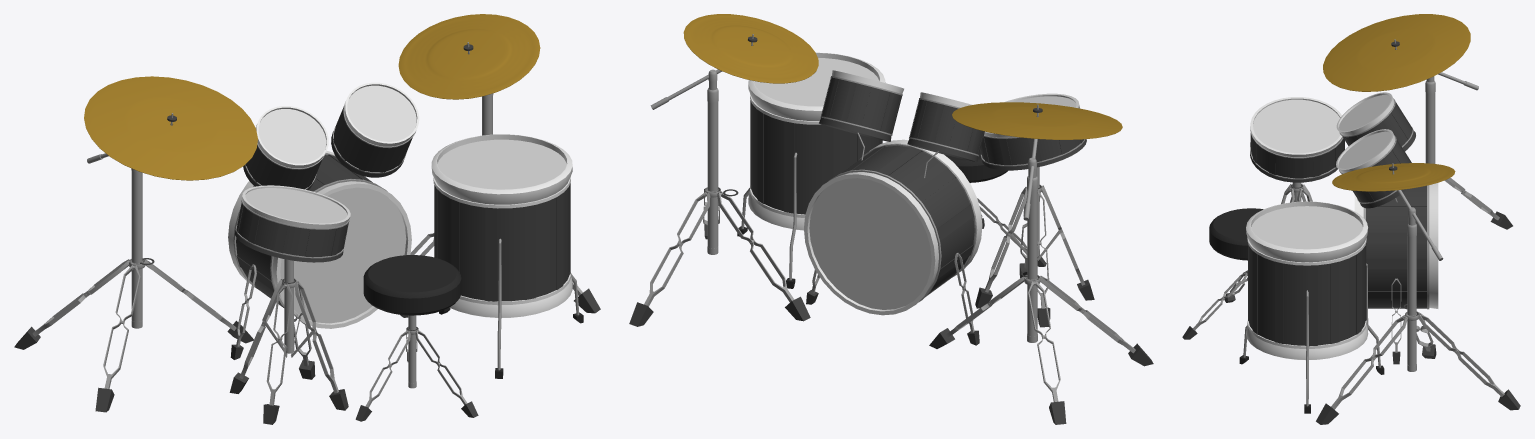
File: drum-kit.glb
3 renders of one model, left to right at view 1: azimuth 30°, elevation 25°; view 2: azimuth 150°, elevation 25°; view 3: azimuth 270°, elevation 25°, orthographic. The views are drawn at different scales.
Parts seen in each view (by area): view 1: BassDrum_27, Tom1Drum_40, Tom2Drum_36, Tom3Drum_37, Snare_26, 3outer, 1outer, 4outer, 2outer; view 2: BassDrum_27, Tom1Drum_40, 3outer, 4outer; view 3: BassDrum_27, Tom1Drum_40, Snare_26, 3outer, Tom2Drum_36, Tom3Drum_37, 1outer, 2outer, 4outer.
Part boxes in pixels (x1,y1,x2,y2): BassDrum_27: (14, 14, 600, 424); Tom1Drum_40: (431, 134, 572, 317); Tom2Drum_36: (347, 85, 416, 141); Tom3Drum_37: (258, 109, 326, 163); Snare_26: (245, 188, 347, 223); 3outer: (228, 151, 411, 328); 1outer: (242, 185, 350, 228); 4outer: (344, 82, 419, 146); 2outer: (256, 106, 328, 168); BassDrum_27: (629, 14, 1153, 424); Tom1Drum_40: (748, 52, 885, 230); 3outer: (804, 139, 982, 315); 4outer: (832, 70, 903, 93); BassDrum_27: (1182, 14, 1520, 424); Tom1Drum_40: (1246, 201, 1368, 360); Snare_26: (1253, 99, 1340, 153); 3outer: (1354, 183, 1438, 308); Tom2Drum_36: (1338, 131, 1391, 168); Tom3Drum_37: (1339, 95, 1390, 130); 1outer: (1250, 97, 1342, 157); 2outer: (1336, 92, 1394, 135); 4outer: (1336, 129, 1395, 173).
Size of the model in its own units: 27.44 by 14.32 by 19.26.
